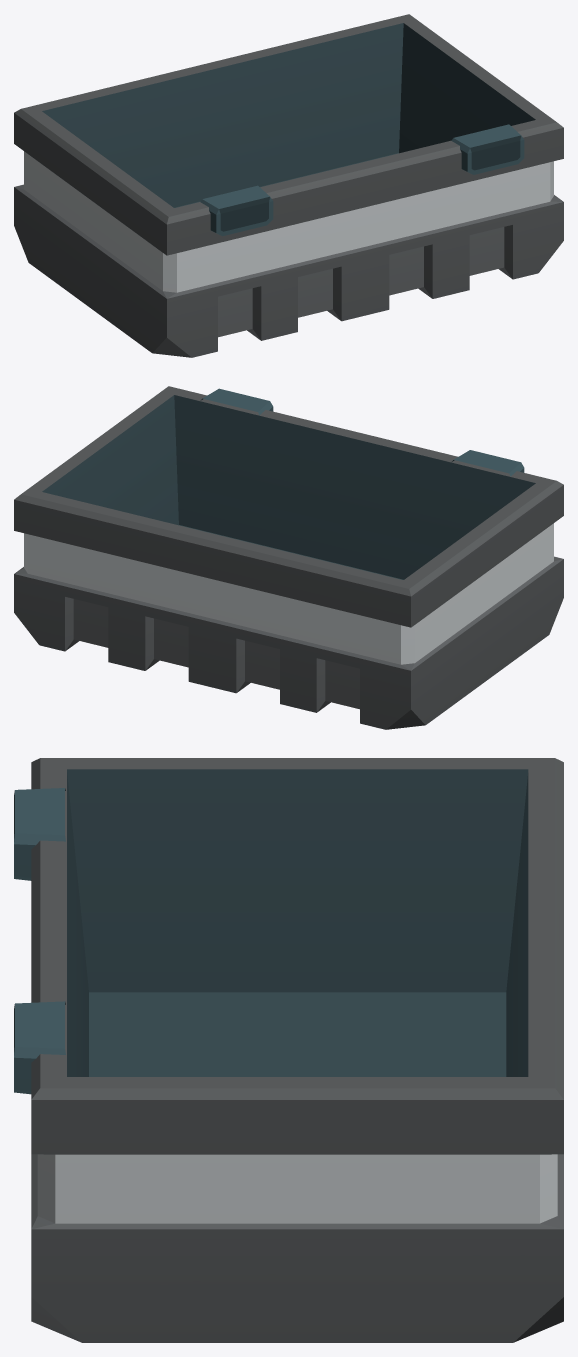
Rendered from Crate_002.fbx.
The picture shows the model from 3 angles, top to bottom: view 1: azimuth 30°, elevation 25°; view 2: azimuth 150°, elevation 25°; view 3: azimuth 270°, elevation 25°; orthographic projection. The views are drawn at different scales.
Parts seen in each view (by area): view 1: Crate_002; view 2: Crate_002; view 3: Crate_002.
Boxes of the visible parts, x1,y1,x2,y2 form: Crate_002: (14,14,563,357); Crate_002: (14,386,563,729); Crate_002: (14,758,563,1342).
Size of the model in its own units: 90 by 61.95 by 31.79.
